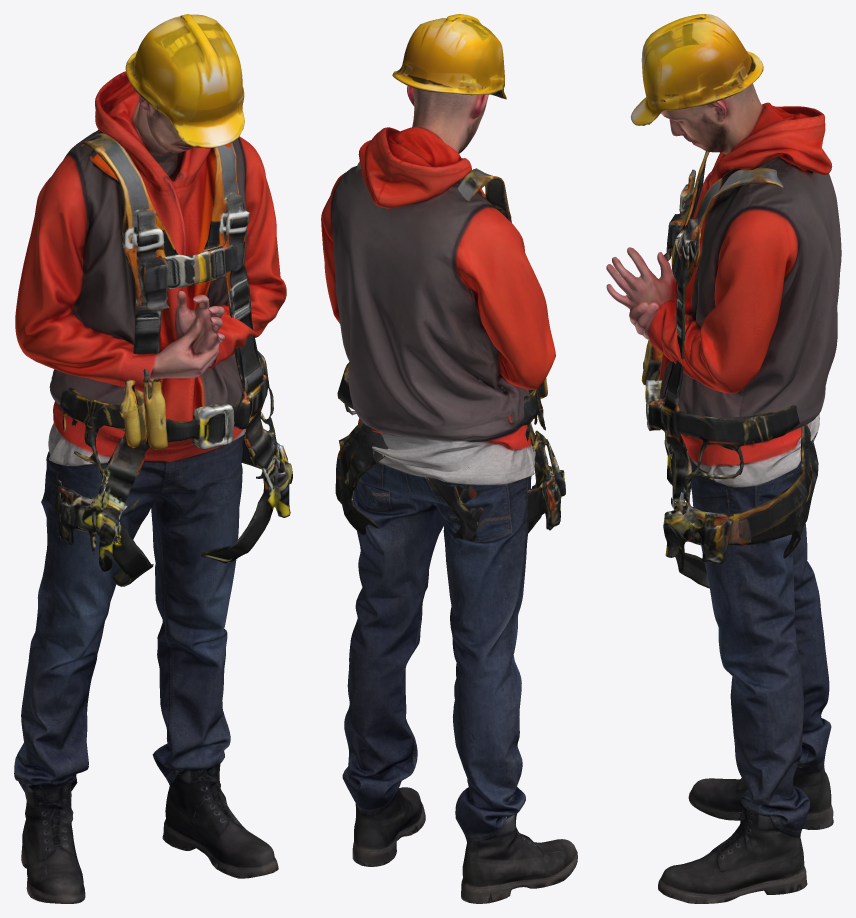
The picture shows the model from 3 angles, left to right: view 1: azimuth 30°, elevation 25°; view 2: azimuth 150°, elevation 25°; view 3: azimuth 270°, elevation 25°; orthographic projection. The views are drawn at different scales.
Visible parts, largest first — view 1: Tall Guy in Orange Hoodie, Mesh_0, Mesh_0.001; view 2: Tall Guy in Orange Hoodie, Mesh_0, Mesh_0.001; view 3: Tall Guy in Orange Hoodie, Mesh_0, Mesh_0.001.
Boxes of the visible parts, box(x1,y1,x2,y2) form: Tall Guy in Orange Hoodie: box(14, 71, 286, 903); Mesh_0: box(54, 133, 292, 586); Mesh_0.001: box(125, 14, 244, 148); Tall Guy in Orange Hoodie: box(321, 86, 577, 903); Mesh_0: box(335, 161, 565, 541); Mesh_0.001: box(392, 14, 506, 99); Tall Guy in Orange Hoodie: box(606, 83, 841, 903); Mesh_0: box(641, 151, 818, 588); Mesh_0.001: box(630, 14, 763, 125).
Size of the model in its own units: 0.5889 by 1.97 by 0.4949.
Materials: 2 (2 with a texture image).
